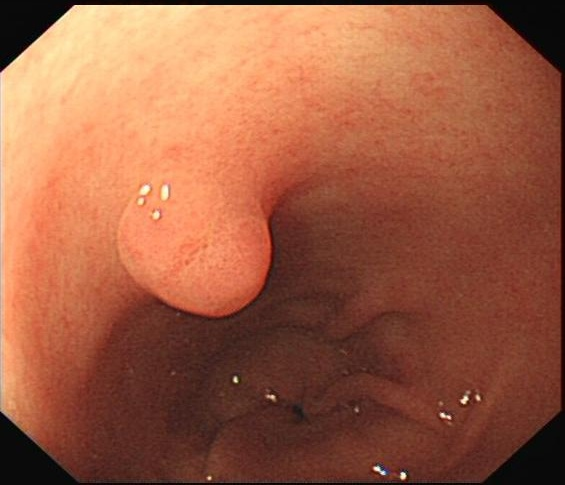Polyp: (111, 155, 277, 330)
